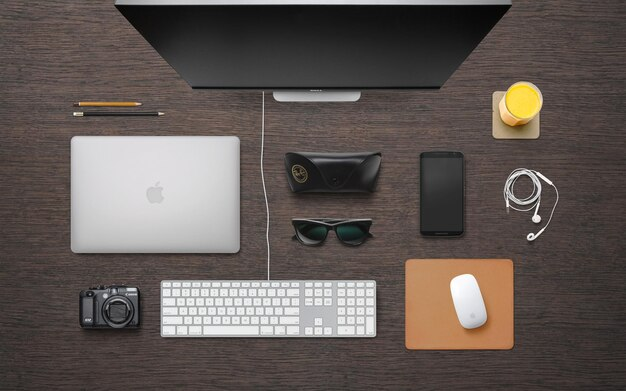not a gesture sign: (72, 136, 238, 253), (161, 280, 376, 337), (406, 259, 513, 347), (421, 153, 462, 216), (80, 285, 138, 326)
